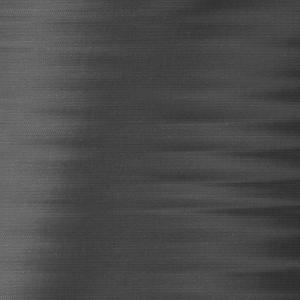Wrinkle: (139, 1, 300, 300), (13, 1, 130, 300)
